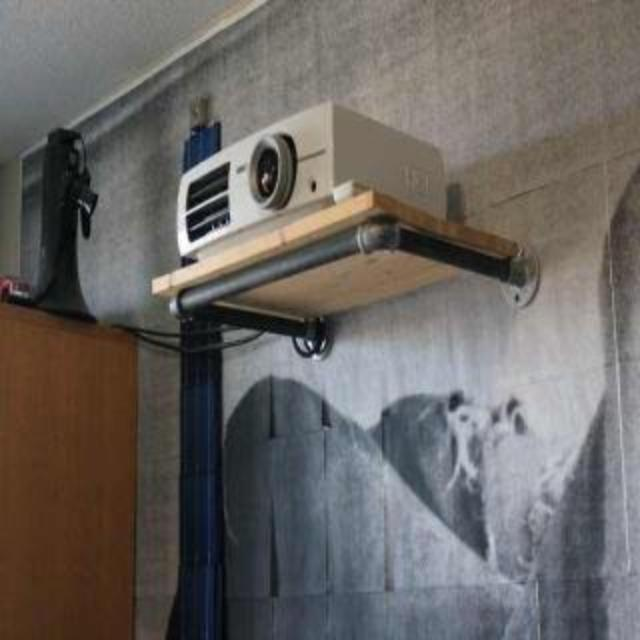Projector: (178, 98, 448, 260)
